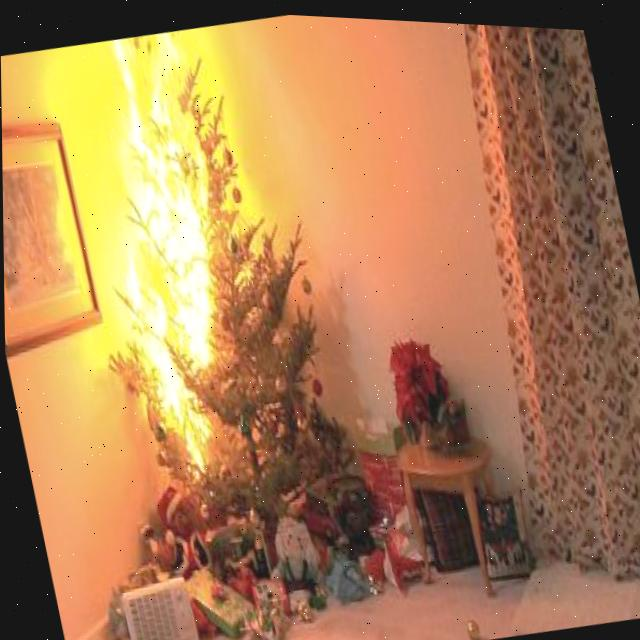fire: (114, 29, 210, 461)
smoke: (183, 12, 525, 486), (1, 39, 161, 640)
